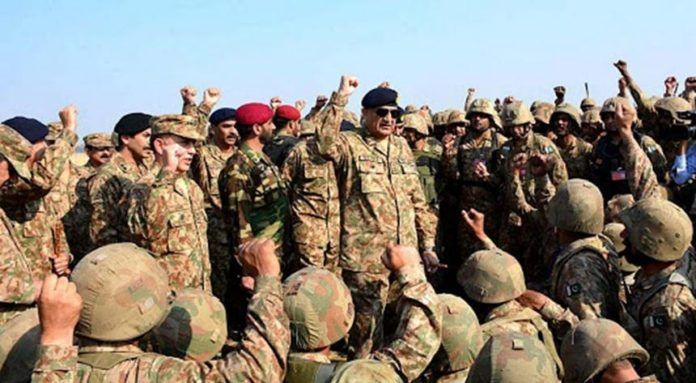uniform: (329, 87, 434, 320), (115, 107, 225, 309), (1, 115, 73, 309), (612, 186, 689, 360), (219, 108, 294, 275), (567, 90, 670, 187), (495, 97, 560, 237), (550, 178, 617, 313), (287, 130, 347, 274), (455, 97, 509, 244), (91, 127, 144, 249)
